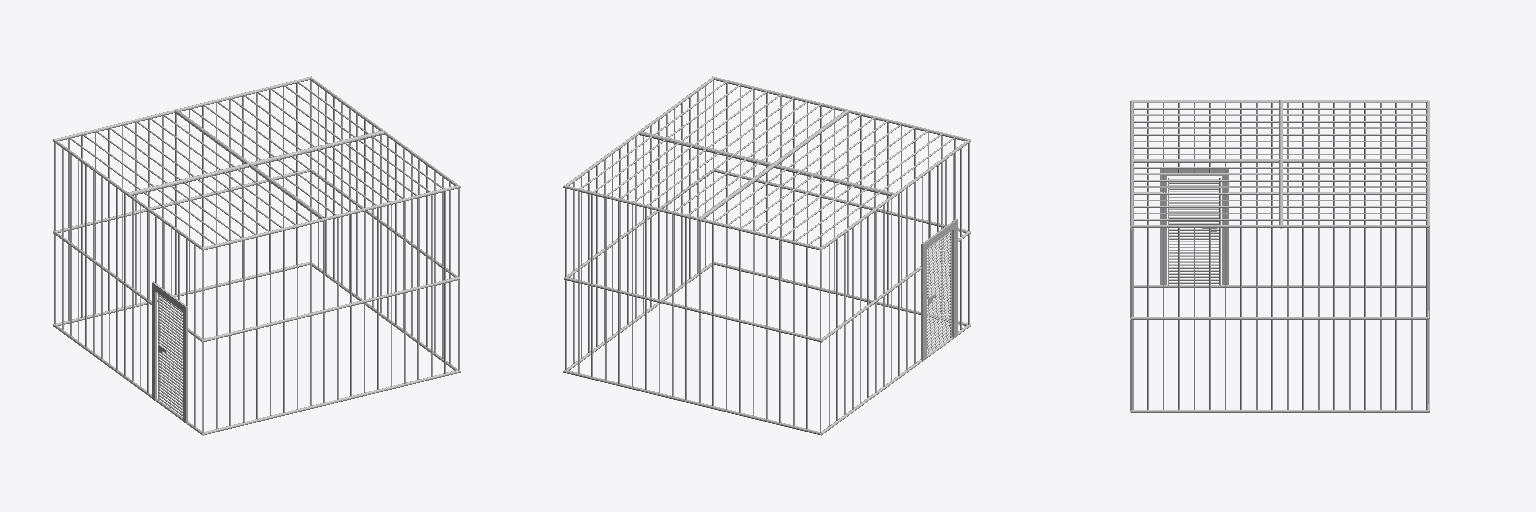
The model's file is jail.obj.
3 renders of one model, left to right at view 1: azimuth 30°, elevation 25°; view 2: azimuth 150°, elevation 25°; view 3: azimuth 270°, elevation 25°, orthographic.
Visible parts, largest first — view 1: Object_6; view 2: Object_6; view 3: Object_6.
Boxes of the visible parts, x1,y1,x2,y2 form: Object_6: [53, 76, 460, 435]; Object_6: [563, 76, 970, 435]; Object_6: [1130, 100, 1429, 412].
Bounding box in the file's own units: 3.94 × 2.73 × 3.94.